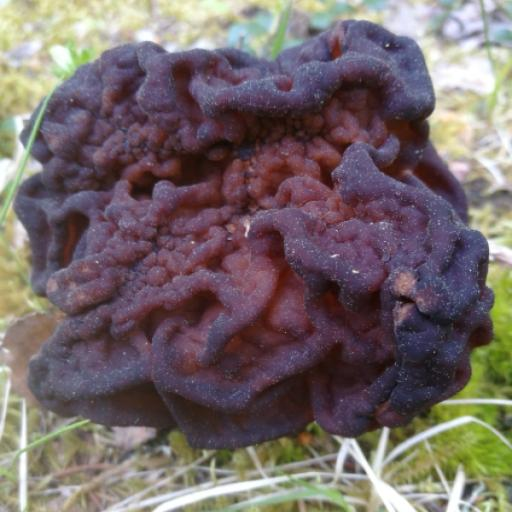False Morel: (6, 13, 498, 469)
